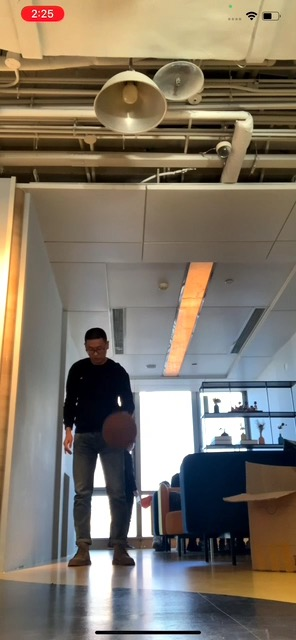ball: (101, 412, 138, 451)
